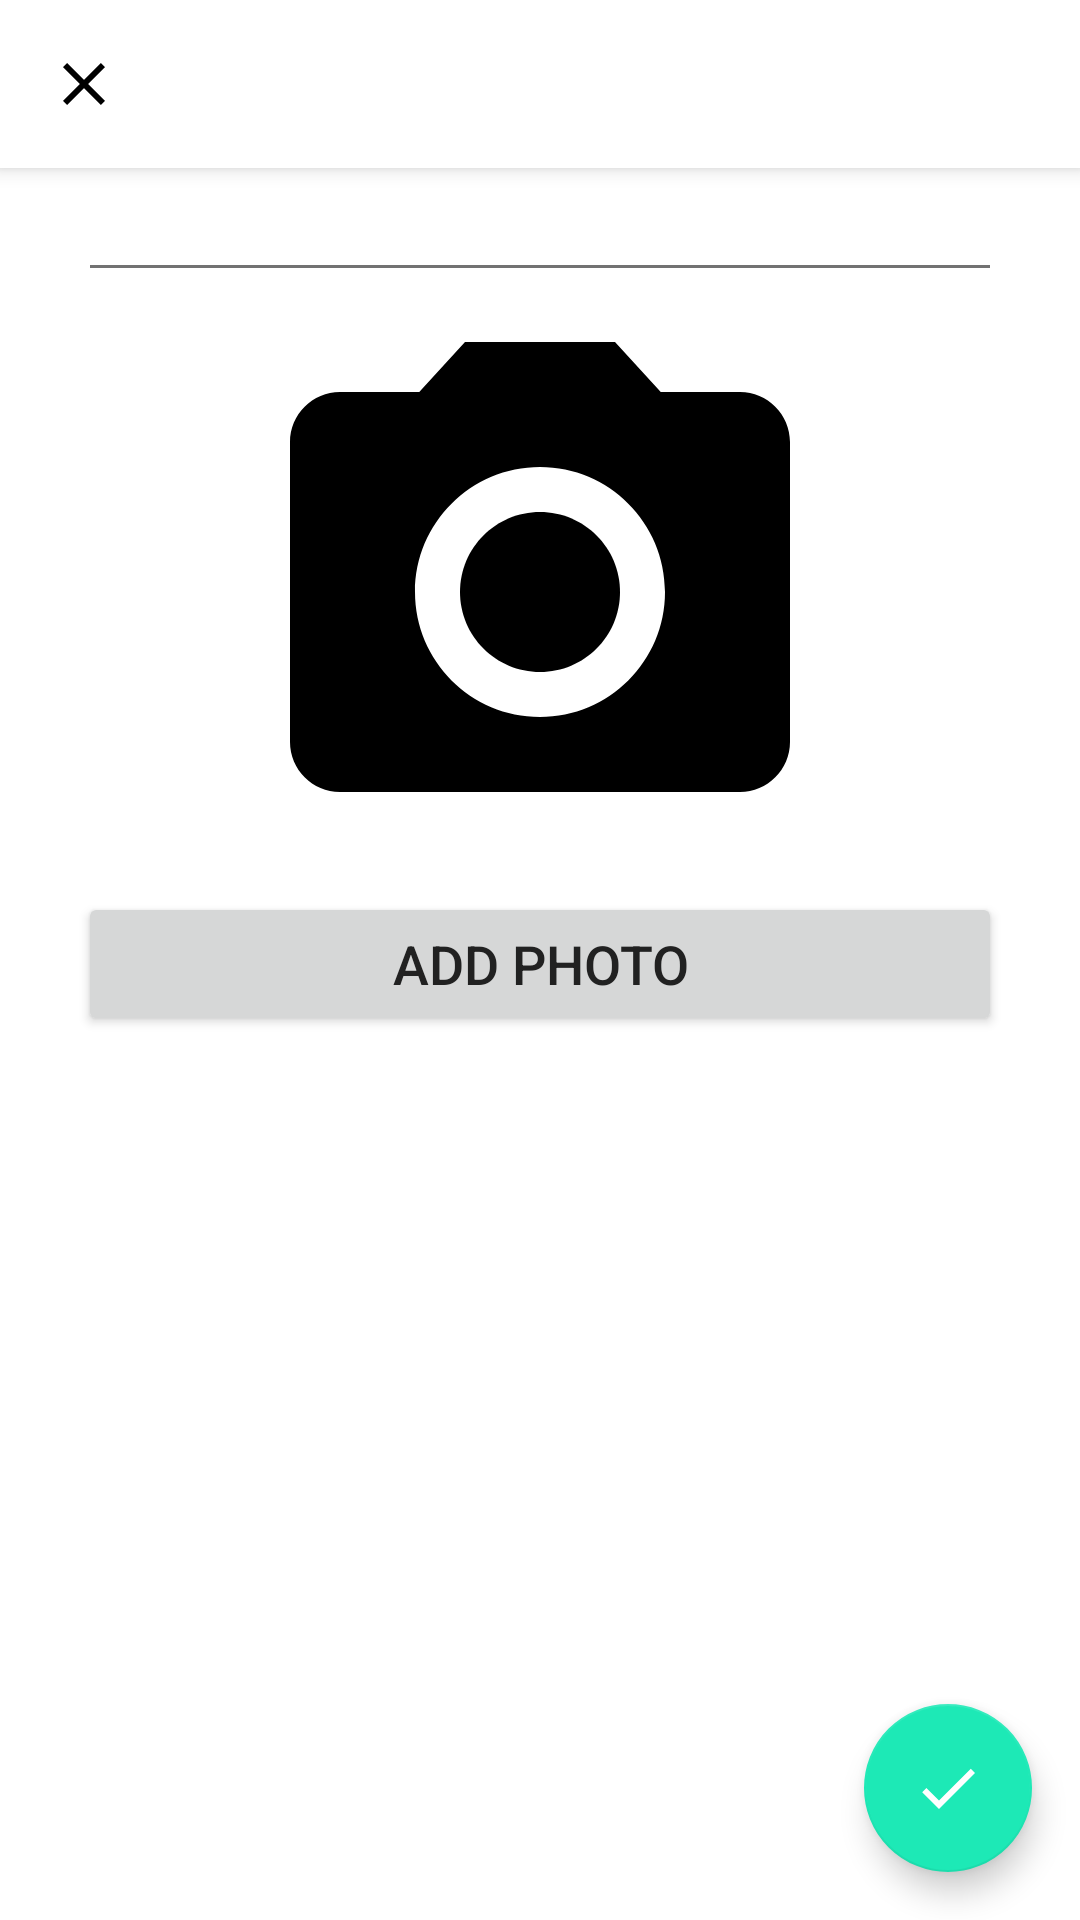

Icon click points for this 1080px x 1920px phone screenshot, format [x,y]:
done: [948,1788]
